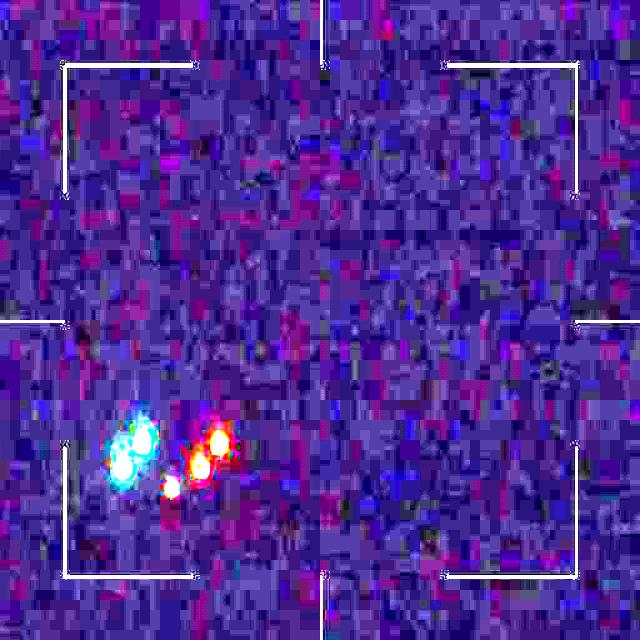bird: (110, 424, 230, 501)
